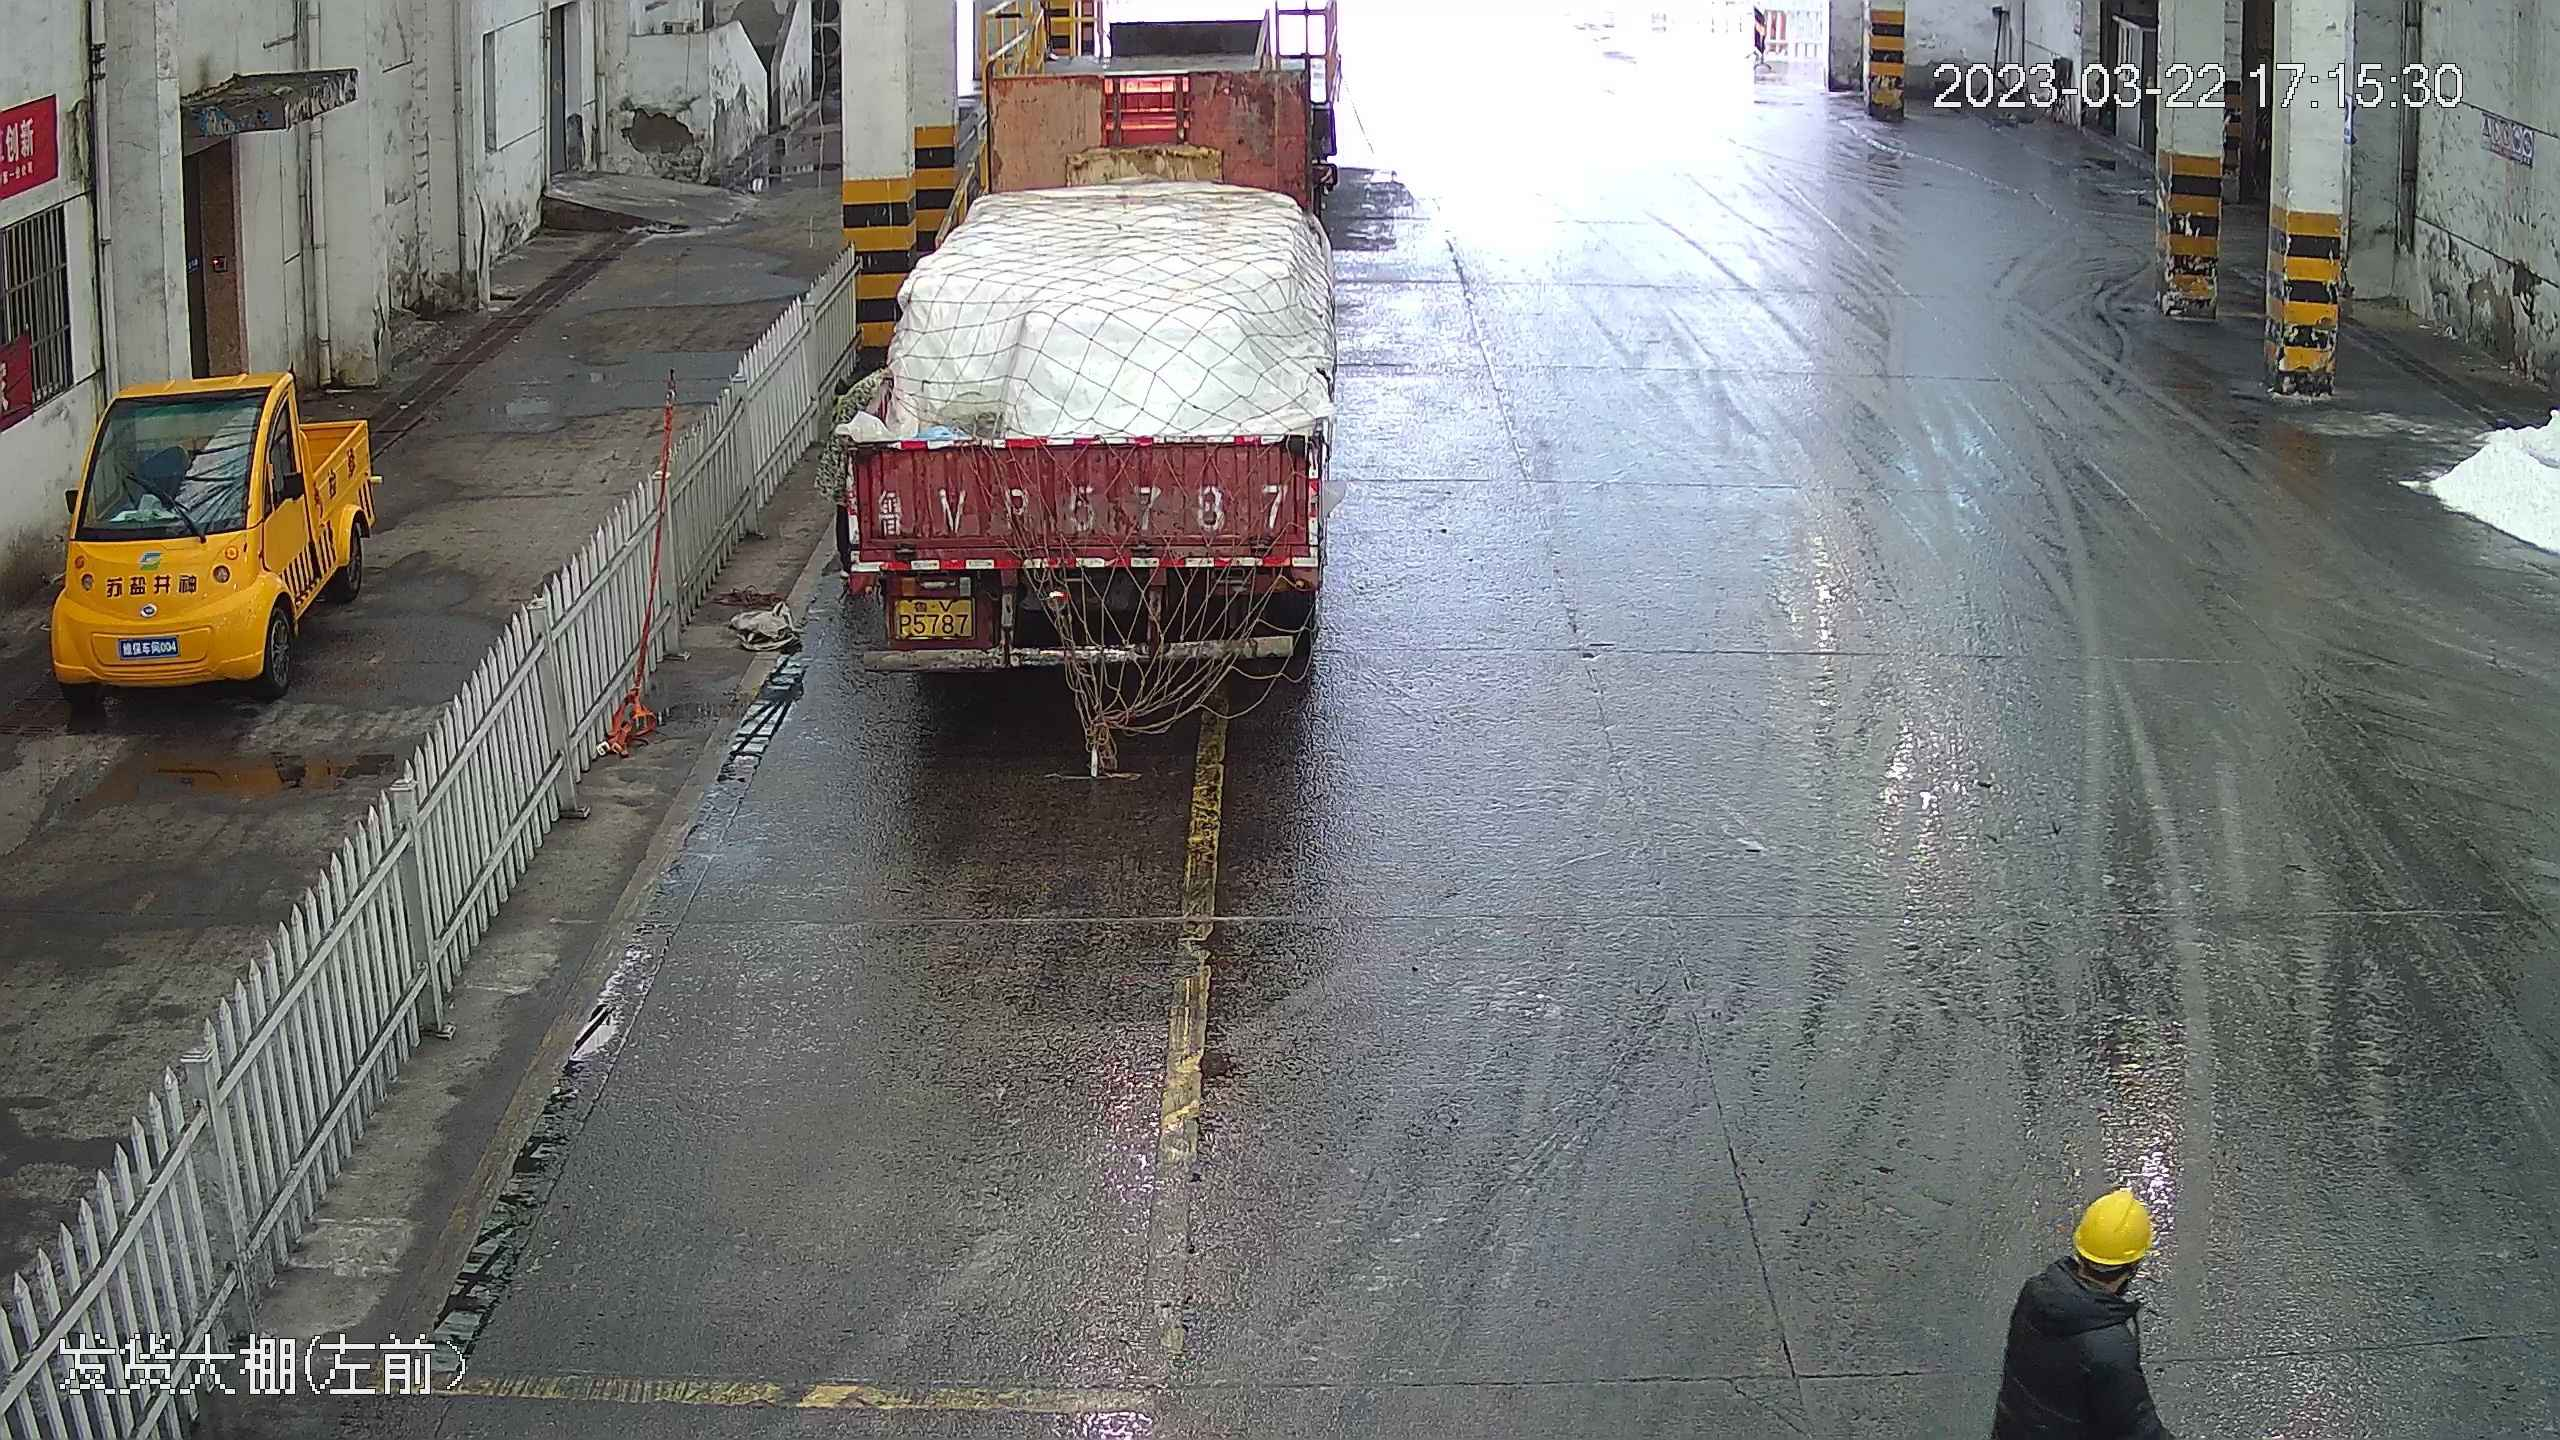head: (2008, 1189, 2169, 1398)
helmet: (2072, 1187, 2157, 1266)
truck: (834, 13, 1340, 681)
